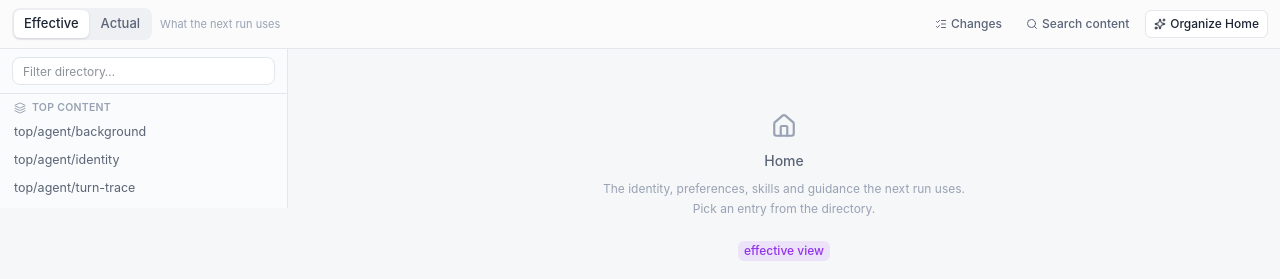
Test case: HomePage changes › keeps loaded changes visible in the directory and opens their diffs
Click the button "Changes" at x=968, y=24, box [927,10,1010,38]
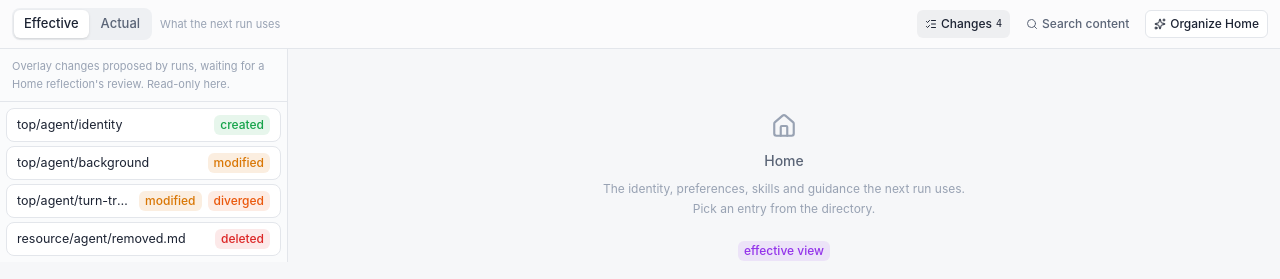
Click the button "Changes 4" at x=964, y=24, box [917,10,1010,38]
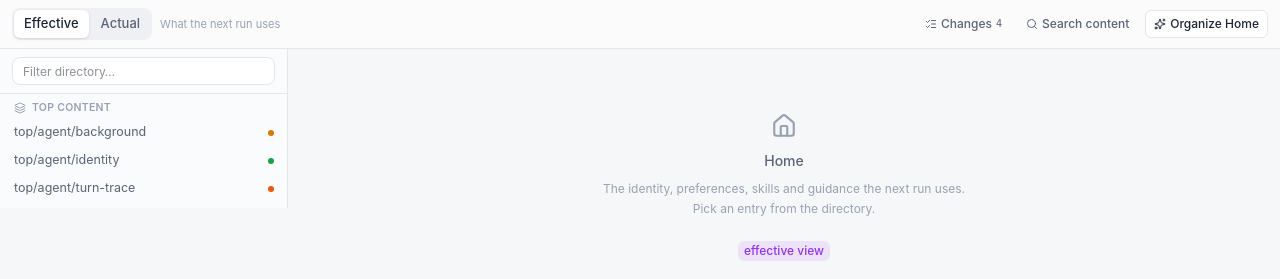
Now the button named "Open modified diff for home:top/agent/background" is shown
Now the button named "Open diverged diff for home:top/agent/turn-trace" is shown, box [261,179,281,199]
Click the button named "Open modified diff for home:top/agent/background" at x=271, y=133, box [261,123,281,143]
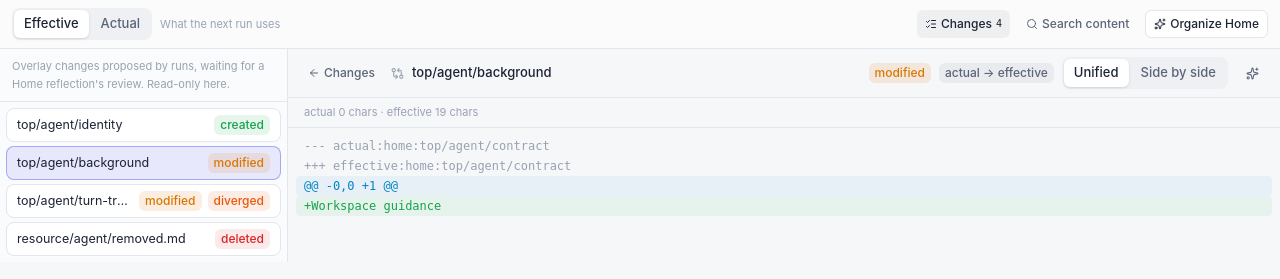
Now the text "+Workspace guidance" is shown, box [296,196,1272,216]
